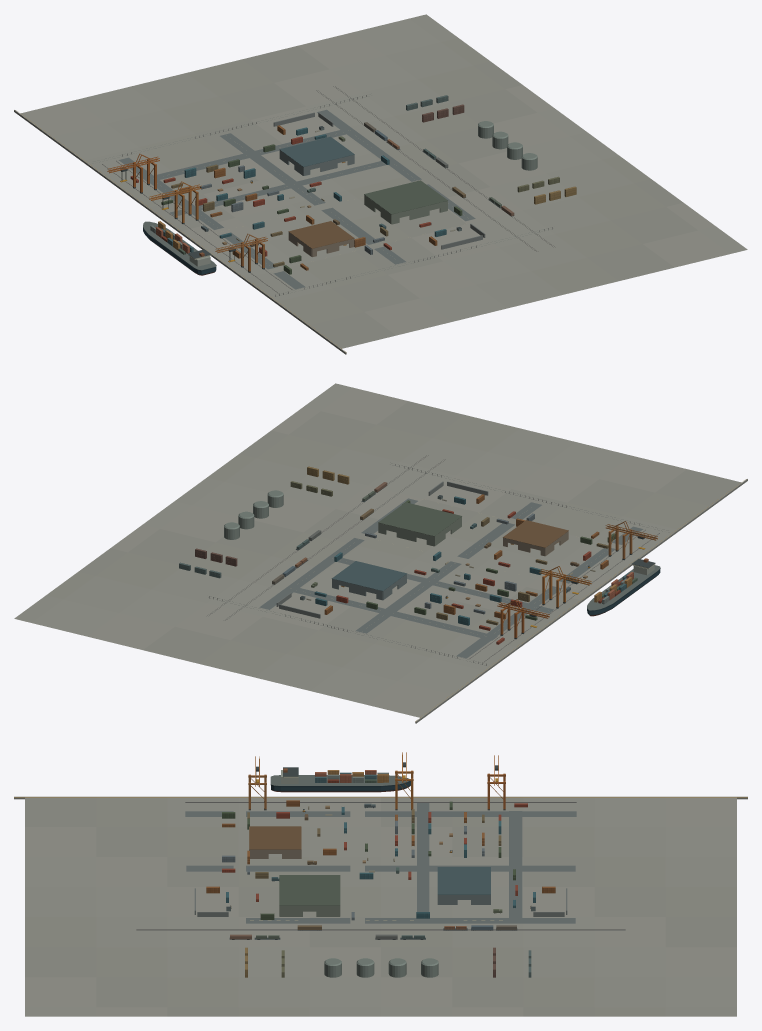
The picture shows the model from 3 angles, top to bottom: view 1: azimuth 30°, elevation 25°; view 2: azimuth 150°, elevation 25°; view 3: azimuth 270°, elevation 25°; orthographic projection. The views are drawn at different scales.
Parts seen in each view (by area): view 1: S1_-4_deck_0, S1_4_deck_0, S1_3_deck_0, S-1_-4_deck_0, S0_-4_deck_0, S2_-4_deck_0, S3_-4_deck_0, S-2_-4_deck_0, S1_2_deck_0, S1_-3_deck_0, S1_-1_deck_0, S1_1_deck_0 (+66 smaller); view 2: S1_-4_deck_0, S1_3_deck_0, S1_4_deck_0, S0_-4_deck_0, S2_-4_deck_0, S3_-4_deck_0, S-1_-4_deck_0, S-2_-4_deck_0, S1_2_deck_0, S1_-3_deck_0, S1_0_deck_0, S1_-1_deck_0 (+65 smaller); view 3: S1_-4_deck_0, S2_-4_deck_0, S3_-4_deck_0, S1_3_deck_0, S1_4_deck_0, S0_-4_deck_0, S-1_-4_deck_0, S-2_-4_deck_0, S1_2_deck_0, S1_-3_deck_0, S1_-1_deck_0, S1_0_deck_0 (+65 smaller).
Part boxes in pixels (x1,y1,x2,y2): S1_-4_deck_0: (186,46,361,119); S1_4_deck_0: (476,257,618,308); S1_3_deck_0: (444,234,586,284); S-1_-4_deck_0: (75,86,194,146); S0_-4_deck_0: (130,73,249,133); S2_-4_deck_0: (298,32,416,92); S3_-4_deck_0: (353,18,472,79); S-2_-4_deck_0: (20,100,138,160); S1_2_deck_0: (411,210,554,261); S1_-3_deck_0: (251,93,393,143); S1_-1_deck_0: (317,140,457,190); S1_1_deck_0: (379,187,522,237); S1_-4_deck_0: (143,603,317,677); S1_3_deck_0: (400,438,543,488); S1_4_deck_0: (432,415,575,465); S0_-4_deck_0: (254,630,373,690); S2_-4_deck_0: (87,589,206,649); S3_-4_deck_0: (32,576,150,636); S-1_-4_deck_0: (310,644,429,704); S-2_-4_deck_0: (366,657,484,717); S1_2_deck_0: (368,462,510,512); S1_-3_deck_0: (207,579,350,630); S1_0_deck_0: (304,509,446,559); S1_-1_deck_0: (272,532,414,572); S1_-4_deck_0: (594,887,736,947); S2_-4_deck_0: (594,947,736,977); S3_-4_deck_0: (594,977,736,1007); S1_3_deck_0: (96,887,167,947); S1_4_deck_0: (25,887,96,947); S0_-4_deck_0: (594,857,736,886); S-1_-4_deck_0: (594,827,736,856); S-2_-4_deck_0: (594,797,736,826); S1_2_deck_0: (167,887,238,947); S1_-3_deck_0: (523,887,594,947); S1_-1_deck_0: (381,887,452,947); S1_0_deck_0: (309,887,380,947).
Size of the model in its own units: 504 by 45.21 by 660.
